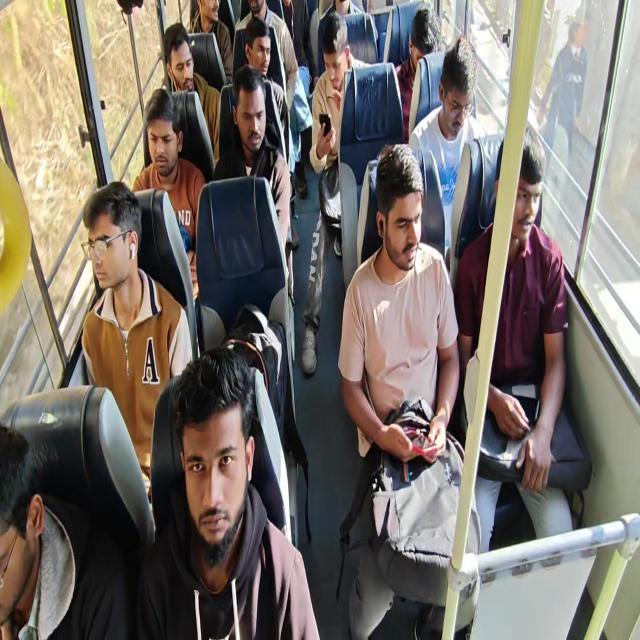person: (337, 142, 481, 638), (135, 346, 321, 638), (454, 124, 574, 555), (80, 181, 194, 505), (0, 423, 133, 639), (300, 13, 356, 375), (213, 65, 295, 305), (408, 36, 485, 262), (131, 87, 207, 300), (233, 0, 312, 198), (162, 22, 221, 162), (537, 19, 588, 175), (240, 17, 292, 161), (394, 6, 442, 142), (315, 0, 371, 75), (189, 0, 233, 84)
